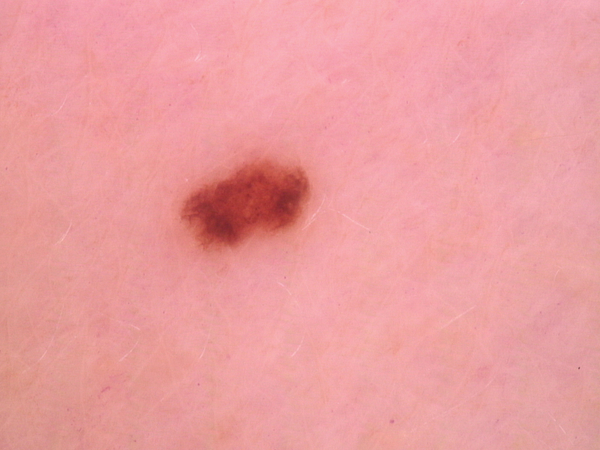Detected Lesion: (175, 156, 314, 255)
